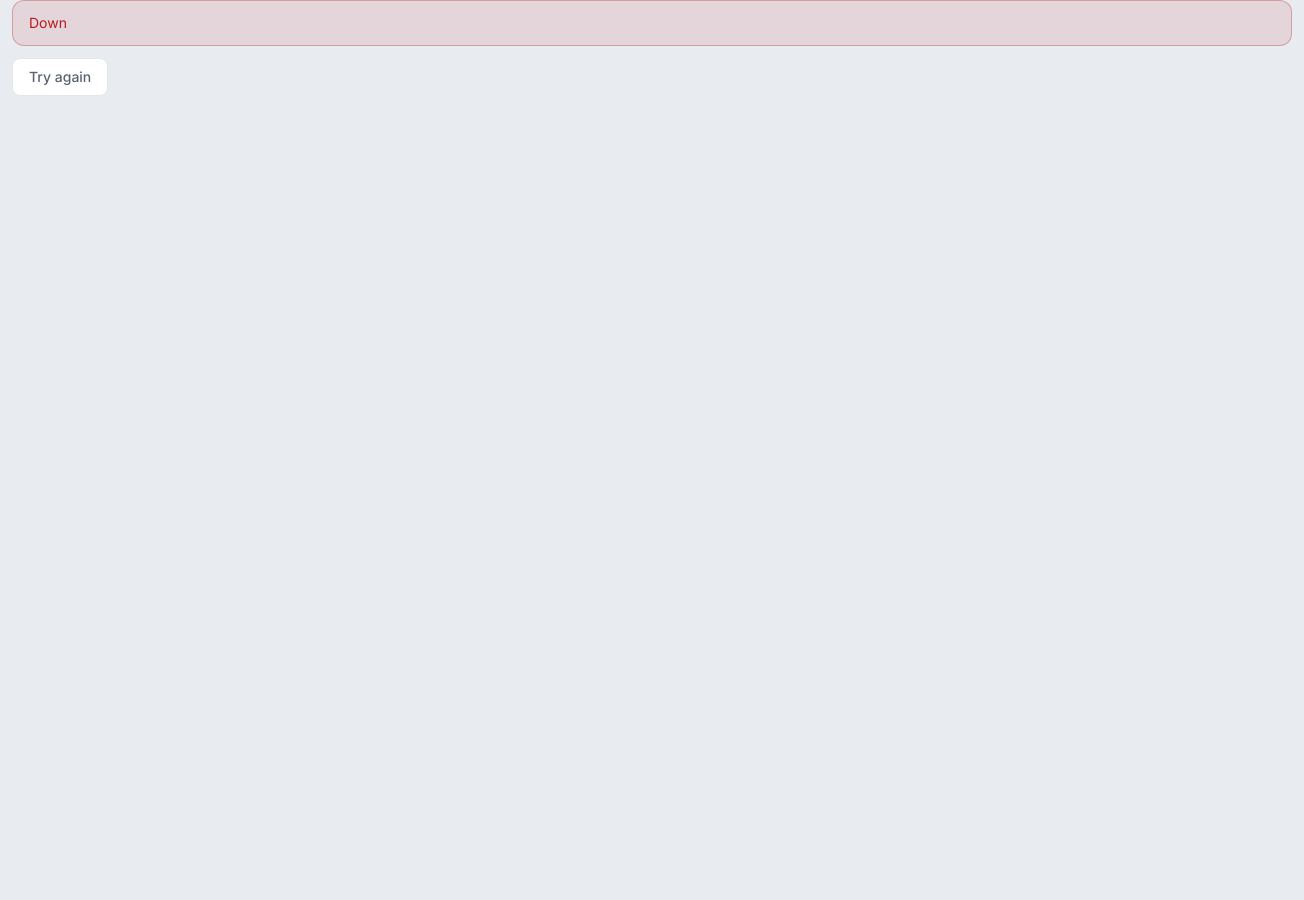
it: MyTasksList › retries after an error
Expected: the message "Down" is shown, [12, 0, 1292, 46]
Click the button "Try again".
click(60, 77)  # box [12, 58, 108, 96]
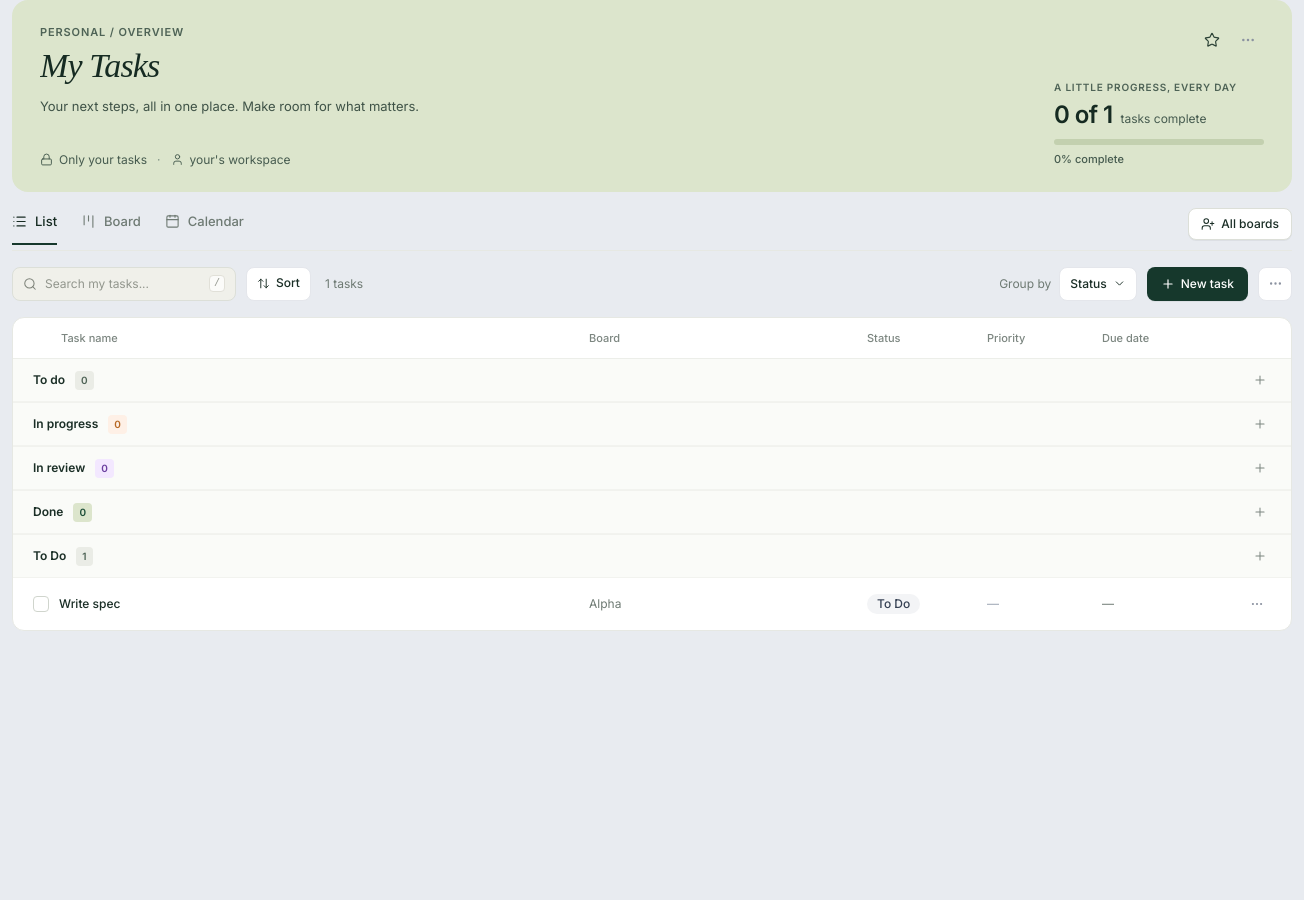
Now the link "Write spec" is shown, box [59, 596, 120, 612]
